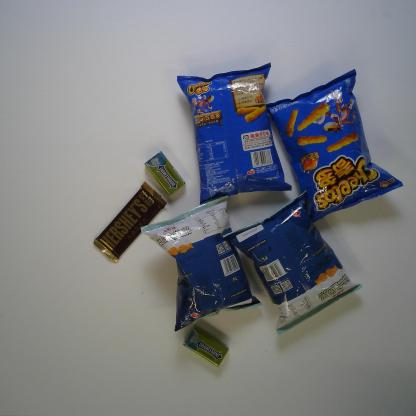Chocolate: (93, 181, 168, 264)
Gum: (182, 325, 229, 368), (144, 151, 186, 196)
Puffed Food: (266, 67, 404, 224), (222, 190, 365, 336), (140, 194, 262, 333), (177, 61, 293, 206)
